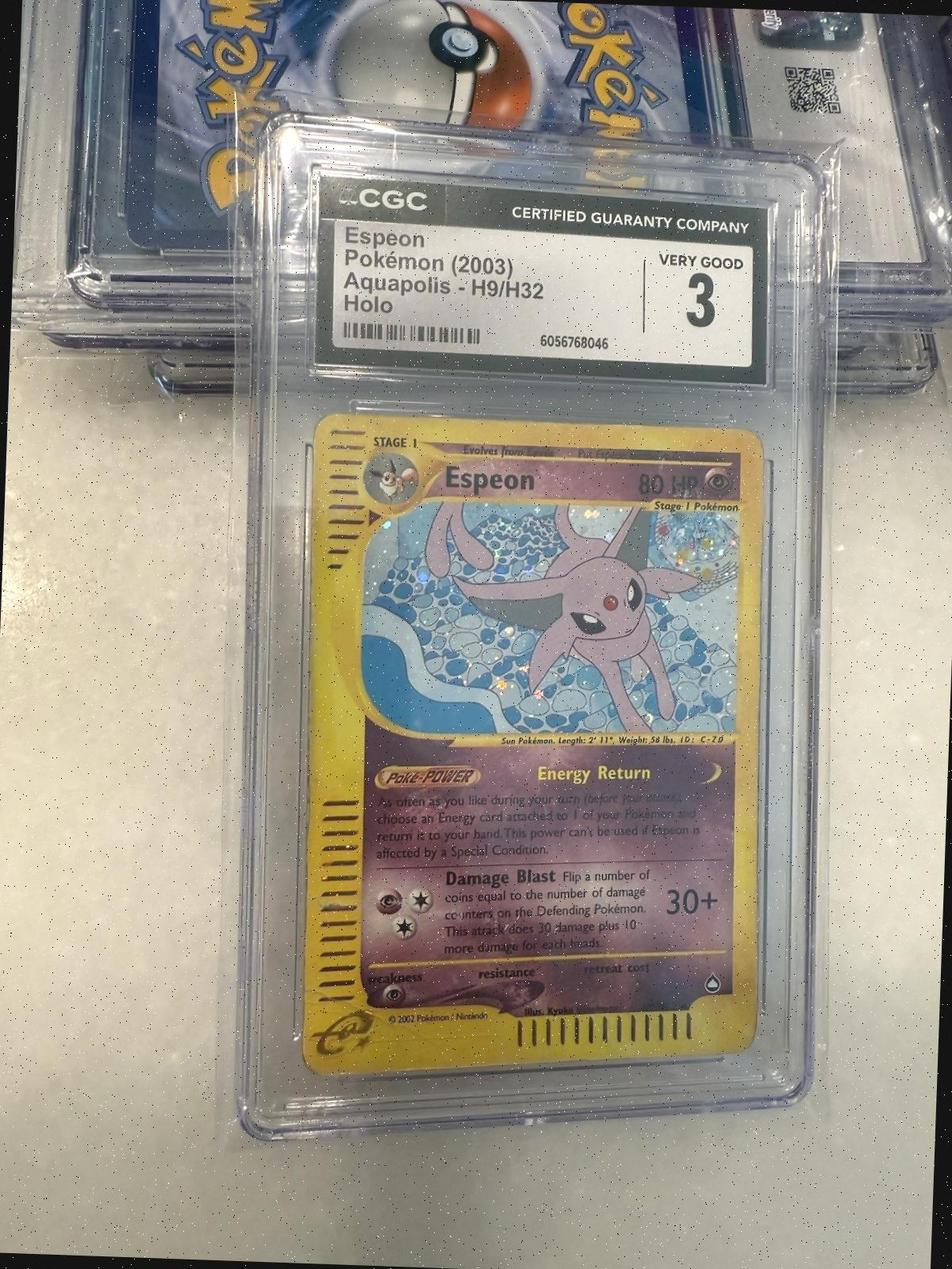card-2UtV: (301, 412, 764, 1076)
